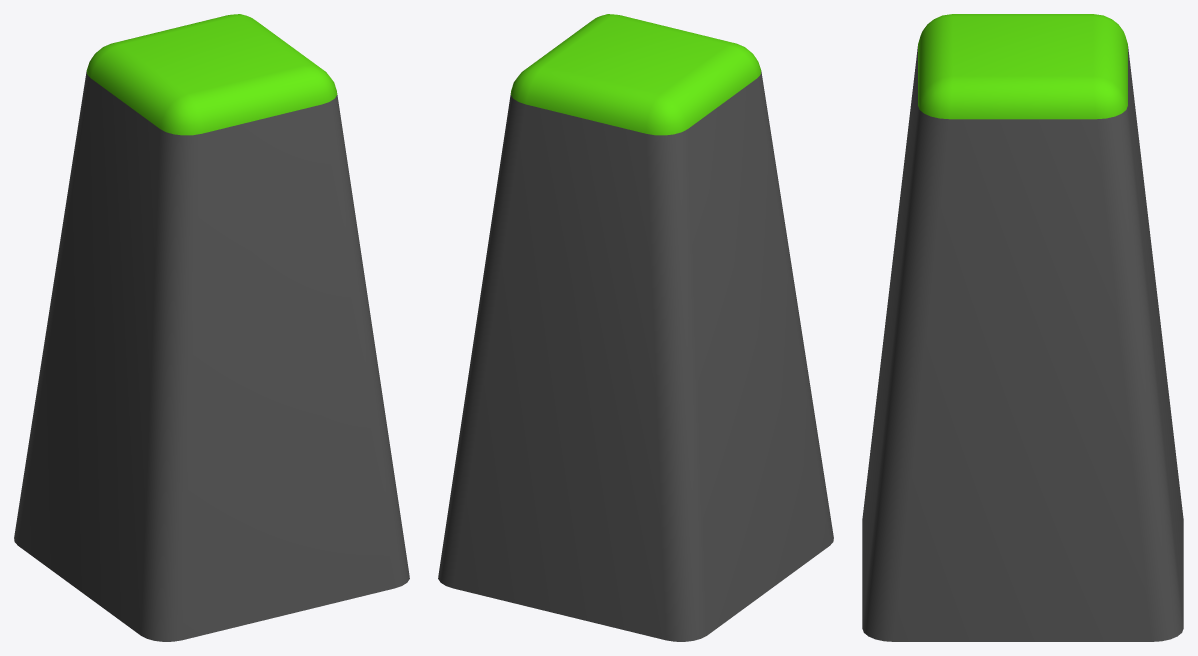
File: Rocks_2.fbx
3 renders of one model, left to right at view 1: azimuth 30°, elevation 25°; view 2: azimuth 150°, elevation 25°; view 3: azimuth 270°, elevation 25°, orthographic. The views are drawn at different scales.
Parts seen in each view (by area): view 1: Rocks_2; view 2: Rocks_2; view 3: Rocks_2.
Boxes of the visible parts, x1,y1,x2,y2 form: Rocks_2: (14, 14, 409, 641); Rocks_2: (438, 14, 833, 641); Rocks_2: (862, 14, 1183, 641).
Bounding box in the file's own units: 2 × 3.62 × 2.
